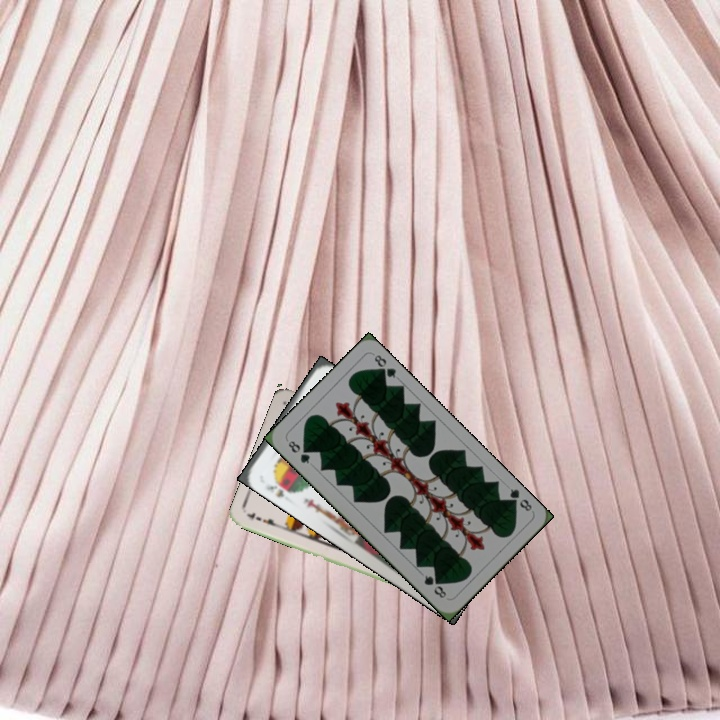E7: (243, 508, 283, 531)
G8: (503, 484, 535, 514), (284, 436, 312, 467)
SK: (262, 474, 295, 500)
